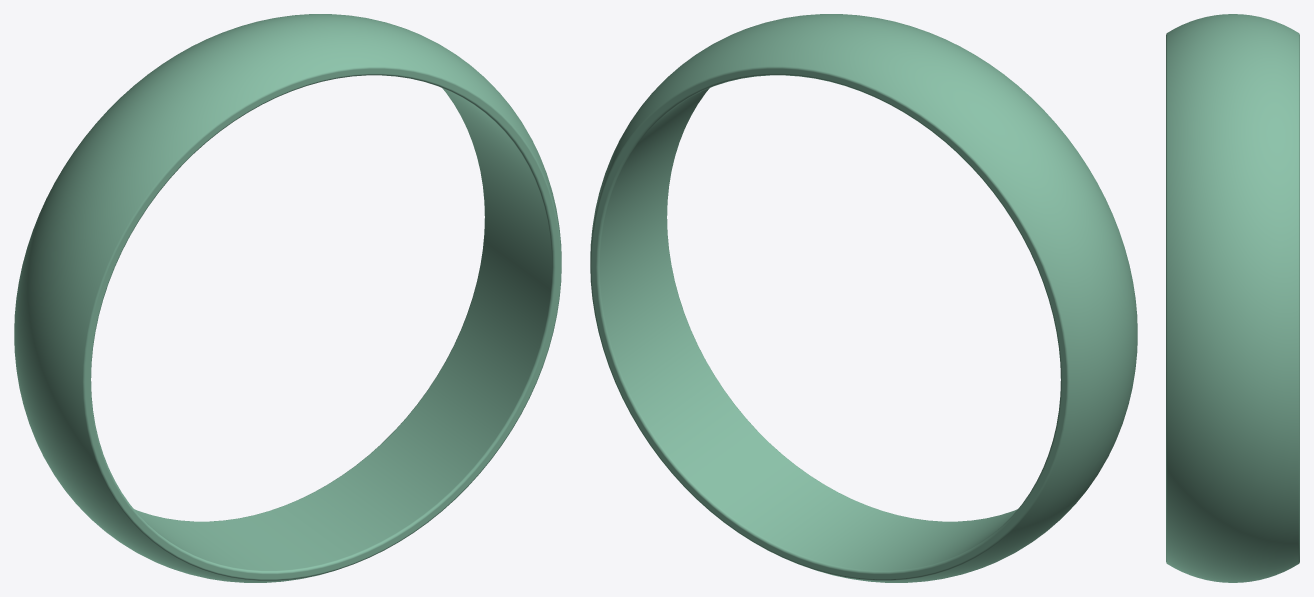
3 views of the same model, side by side, from view 1: azimuth 30°, elevation 25°; view 2: azimuth 150°, elevation 25°; view 3: azimuth 270°, elevation 25° (orthographic). The views are drawn at different scales.
Visible parts, largest first — view 1: 8g 5mm.3dm; view 2: 8g 5mm.3dm; view 3: 8g 5mm.3dm.
Boxes of the visible parts, <box> form: 8g 5mm.3dm: <box>14,14,561,582</box>; 8g 5mm.3dm: <box>590,14,1137,582</box>; 8g 5mm.3dm: <box>1166,14,1299,582</box>.
Size of the model in its own units: 2.79 by 2.79 by 0.6562.
